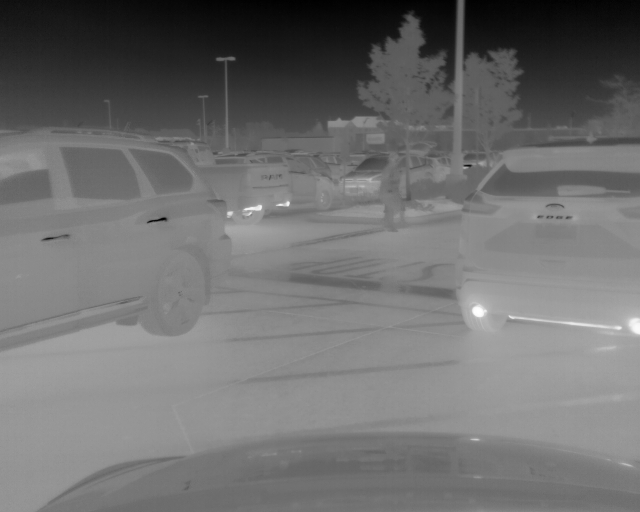car: (1, 126, 232, 356), (454, 136, 640, 340), (184, 143, 293, 223), (224, 154, 342, 225), (339, 151, 442, 200)
people: (379, 153, 404, 233)
